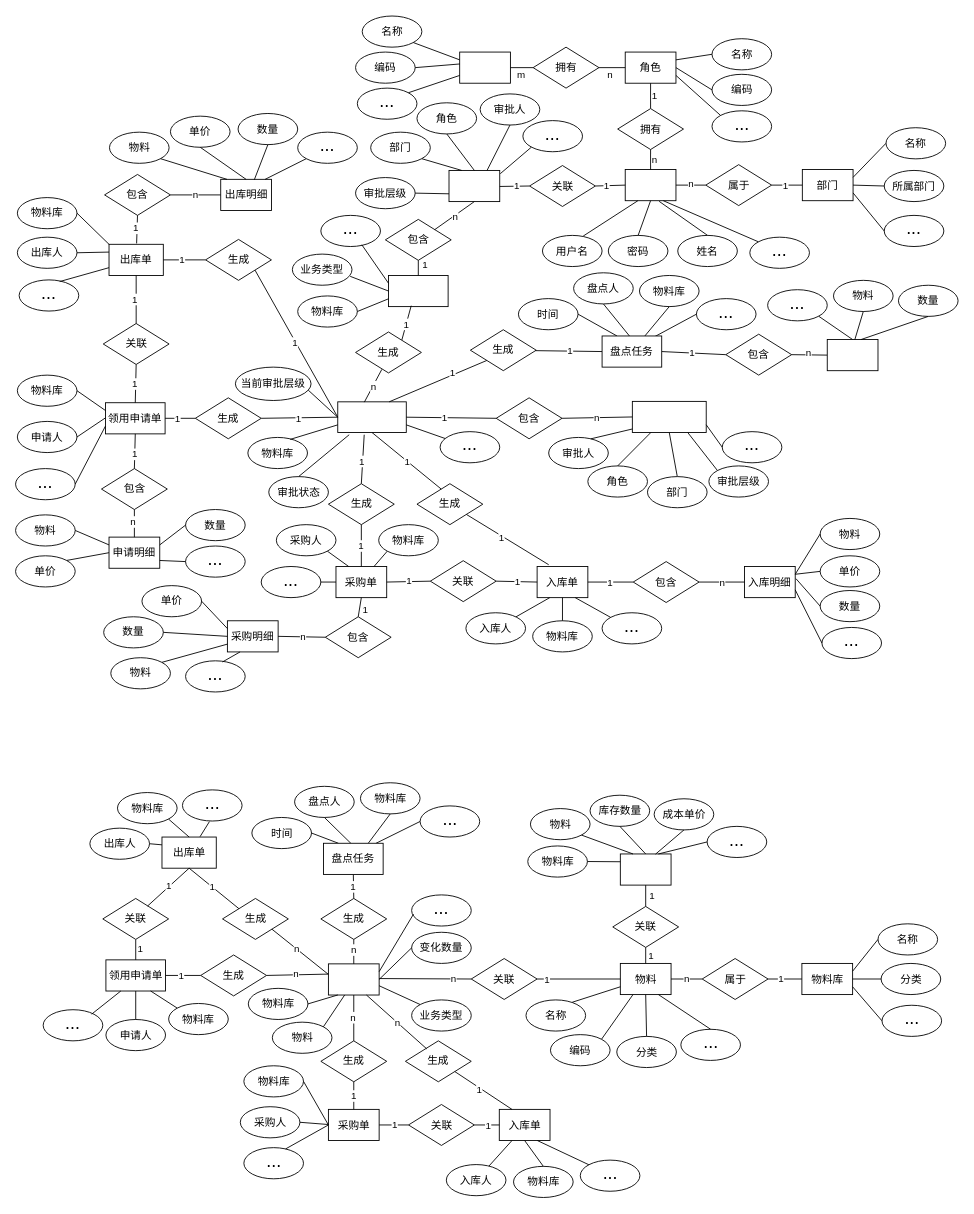
Image size: 974x1214. Some labels were removed from this diagram. Each missing label, with the centre of its shape:
审批单: pixel 371 417
审批步骤: pixel 474 186
审批流程: pixel 418 291
审批记录: pixel 668 416
库存流水: pixel 353 979
库存记录: pixel 645 869
权限: pixel 484 67
用户: pixel 650 185
盘点明细: pixel 852 355
